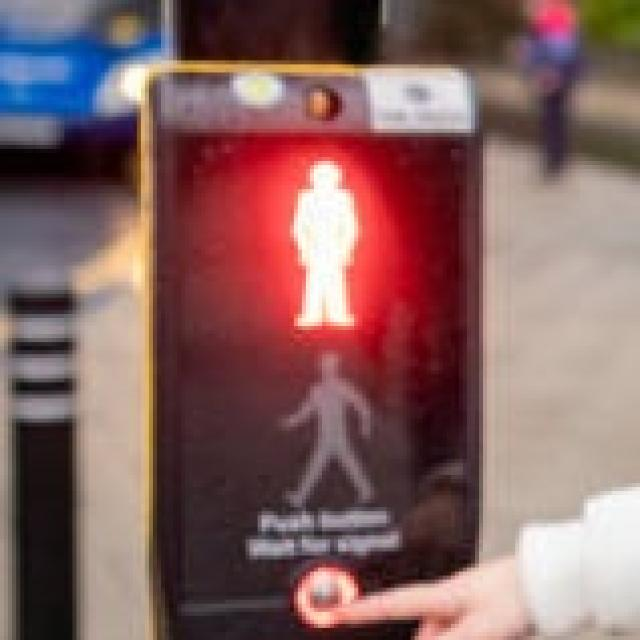red_light: (245, 129, 402, 334)
